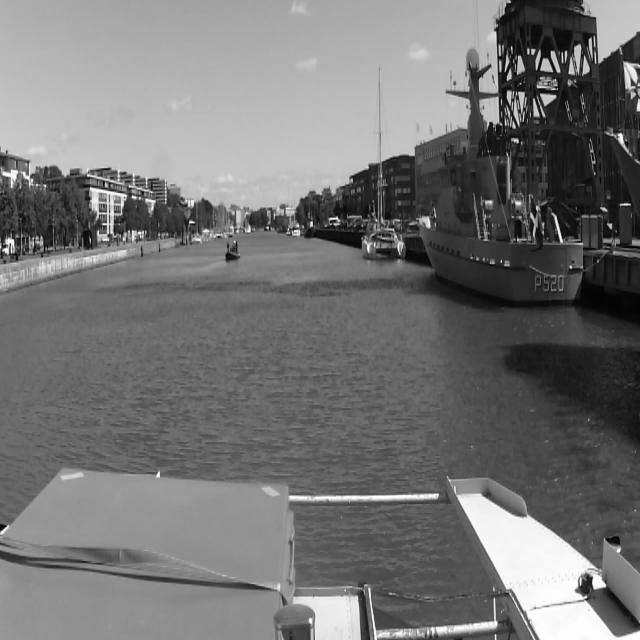ship: (420, 146, 580, 298), (362, 67, 408, 261), (285, 196, 296, 236), (226, 240, 242, 260), (288, 219, 302, 239), (189, 235, 202, 242)
